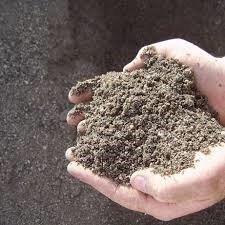dirt: (73, 55, 219, 178), (1, 6, 68, 222), (70, 181, 104, 222)
